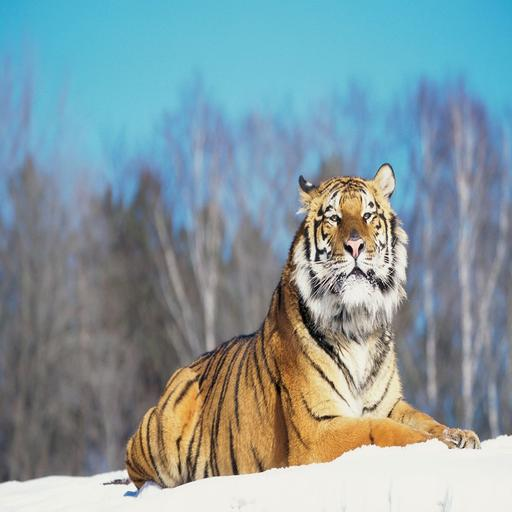Tiger: (106, 160, 495, 486)
